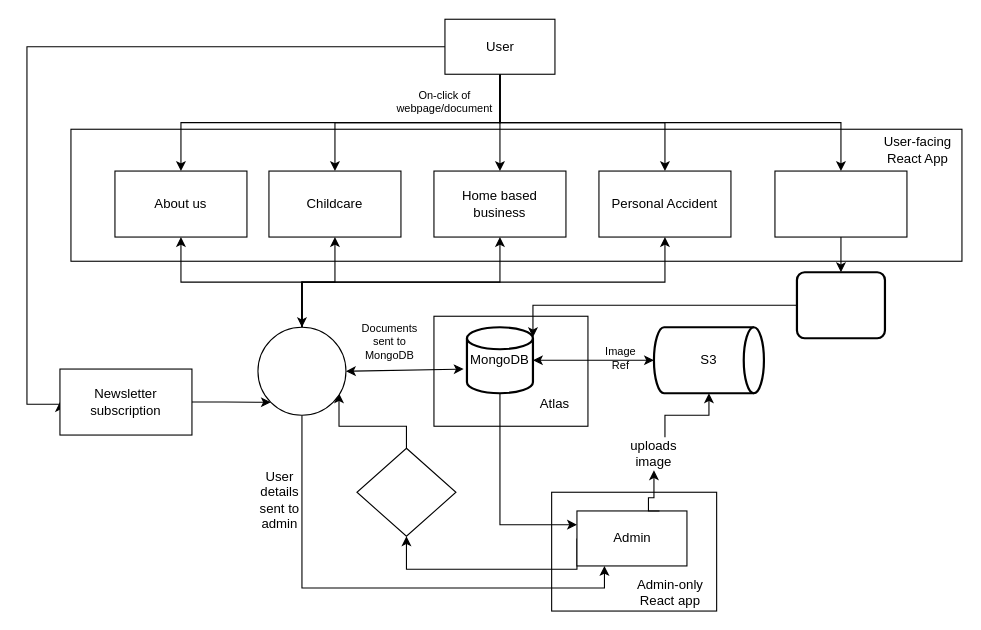
Image size: 981x630. Some labels were removed from this diagram. The centre of each missing label's shape, as x and y in pixels:
"Contact" goes at (840,203).
"Documents Upload/manipulation" goes at (406,491).
"Form sent" goes at (840,305).
"Server" goes at (301,370).
